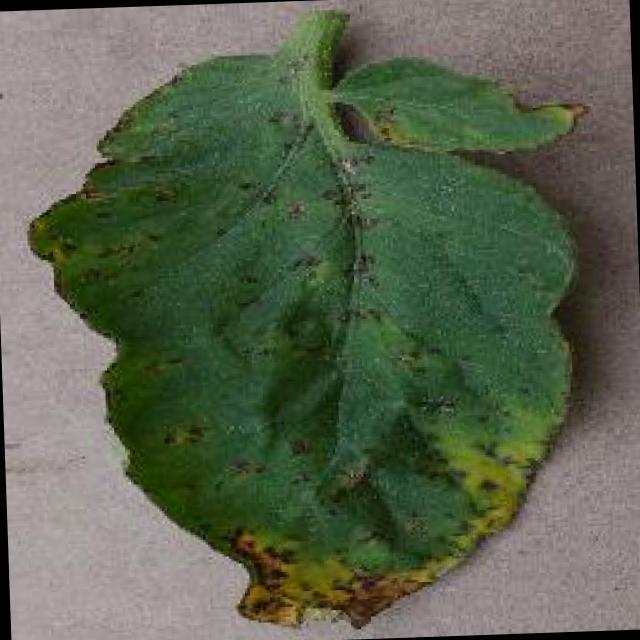Tomato bacterial spot leaf: (19, 38, 613, 640)
